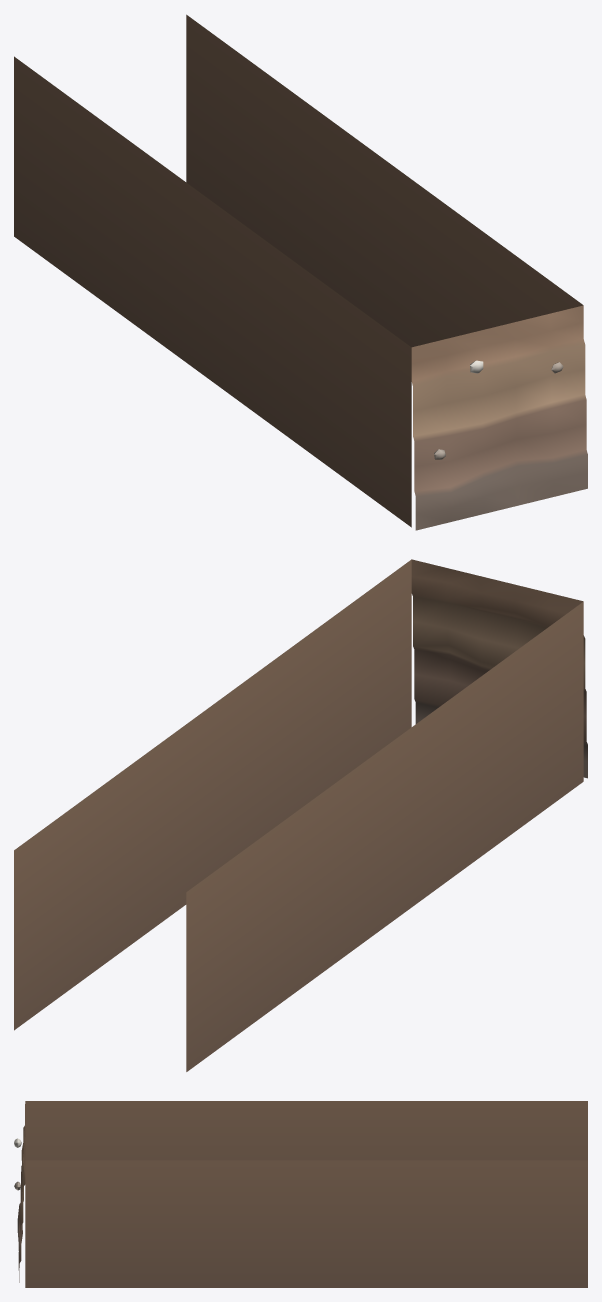
File: groundlite_earth_2.glb
3 renders of one model, top to bottom at view 1: azimuth 30°, elevation 25°; view 2: azimuth 150°, elevation 25°; view 3: azimuth 270°, elevation 25°, orthographic. The views are drawn at different scales.
Visible parts, largest first — view 1: groundlite_earth_2; view 2: groundlite_earth_2; view 3: groundlite_earth_2.
Part boxes in pixels (left/top/right/bottom): groundlite_earth_2: left=14, top=14, right=587, bottom=530; groundlite_earth_2: left=14, top=559, right=587, bottom=1071; groundlite_earth_2: left=14, top=1101, right=587, bottom=1287.
Size of the model in its own units: 1 by 1 by 4.08.
